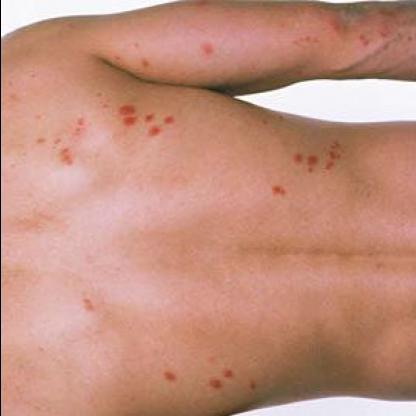Bed Bug: (94, 89, 136, 132), (376, 5, 410, 57), (138, 102, 176, 142), (320, 132, 344, 184), (205, 364, 236, 398), (256, 110, 292, 134), (286, 150, 318, 176), (63, 112, 86, 140), (324, 10, 340, 50), (156, 365, 180, 387), (52, 146, 76, 168), (286, 34, 318, 50), (264, 179, 286, 201), (192, 40, 212, 62), (350, 25, 366, 51), (76, 296, 96, 314), (136, 53, 152, 75), (62, 15, 76, 40), (243, 374, 259, 394), (108, 47, 122, 68), (284, 62, 302, 78), (4, 90, 22, 106), (30, 112, 48, 126), (32, 134, 62, 142), (127, 39, 144, 53), (192, 0, 212, 7)
